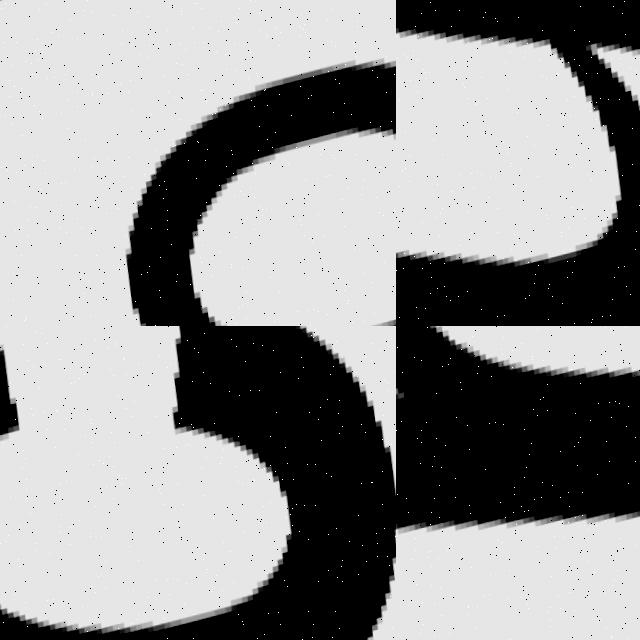B: (128, 69, 396, 326)
C: (0, 326, 396, 640)
R: (396, 326, 640, 640)
U: (396, 0, 640, 326)
